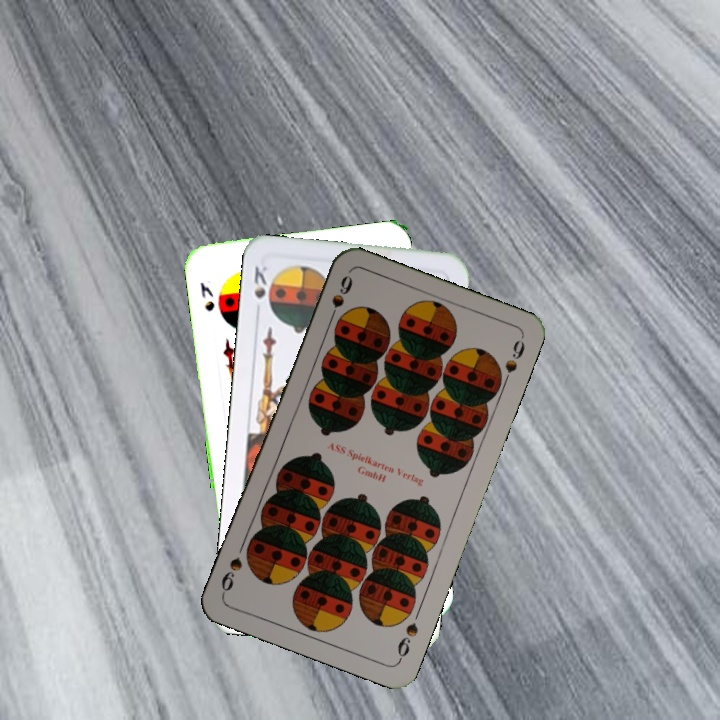S9: (324, 271, 355, 327), (393, 618, 421, 664)
SK: (250, 262, 270, 319), (196, 278, 217, 314)
